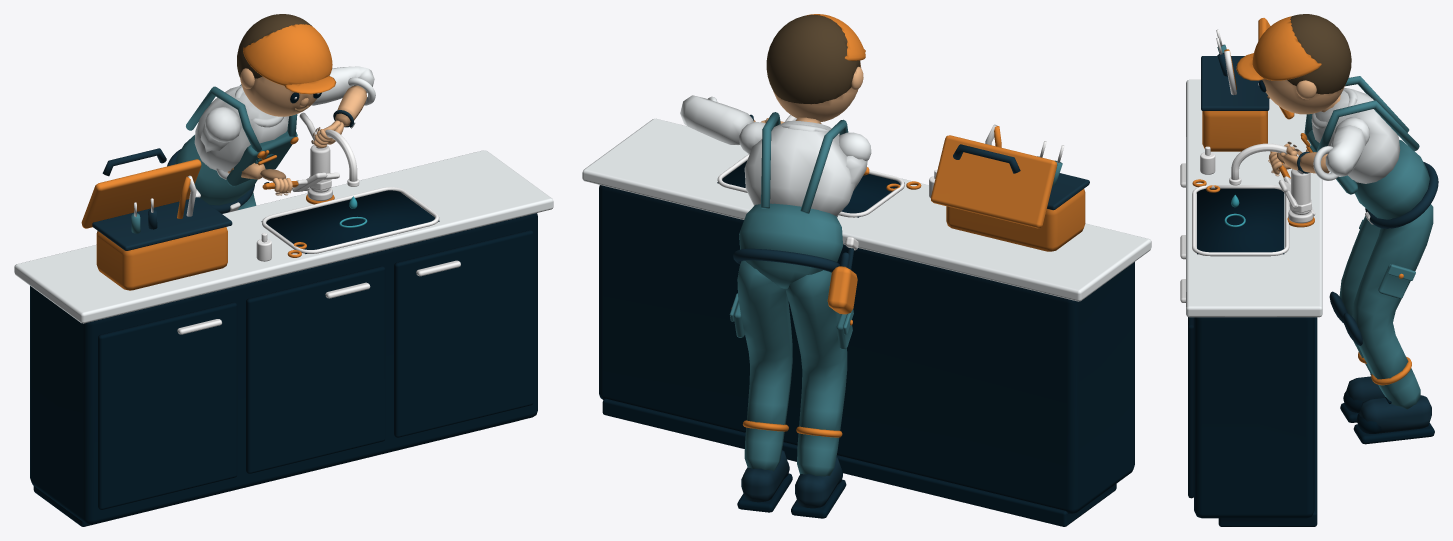
File: bild-1.glb
The picture shows the model from 3 angles, left to right: view 1: azimuth 30°, elevation 25°; view 2: azimuth 150°, elevation 25°; view 3: azimuth 270°, elevation 25°; orthographic projection. The views are drawn at different scales.
Parts seen in each view (by area): view 1: Sockel, Arbeitsplatte, Deckel, FachkraftArm1, Becken, Dreher1, FachkraftBauch, Auslauf, Fachkraft1Daumen, FachkraftSchnalle, FachkraftBraue1; view 2: Sockel, Arbeitsplatte, FachkraftBauch, Deckel, FachkraftArm1, FachkraftBraue1, Dreher1, Becken, Fachkraft1Daumen, Auslauf; view 3: Sockel, Arbeitsplatte, FachkraftBauch, Dreher1, Becken, Deckel, FachkraftArm1, Auslauf, FachkraftBraue1, Fachkraft1Daumen, FachkraftSchnalle.
Part boxes in pixels (box(x1,y1,x2,y2)): Sockel: box(30, 213, 537, 526); Arbeitsplatte: box(14, 150, 553, 323); Deckel: box(81, 24, 336, 290); FachkraftArm1: box(194, 66, 375, 179); Becken: box(261, 182, 439, 253); Dreher1: box(92, 110, 354, 250); FachkraftBauch: box(174, 84, 297, 213); Auslauf: box(134, 112, 439, 253); Fachkraft1Daumen: box(227, 68, 366, 193); FachkraftSchnalle: box(177, 202, 460, 334); FachkraftBraue1: box(237, 14, 311, 78); Sockel: box(599, 185, 1134, 526); Arbeitsplatte: box(582, 118, 1151, 301); FachkraftBauch: box(729, 112, 853, 476); Deckel: box(731, 14, 1085, 437); FachkraftArm1: box(680, 95, 871, 216); FachkraftBraue1: box(766, 14, 860, 104); Dreher1: box(733, 114, 1089, 508); Becken: box(717, 161, 904, 518); Fachkraft1Daumen: box(753, 63, 863, 123); Auslauf: box(717, 115, 1064, 217); Sockel: box(1188, 317, 1317, 526); Arbeitsplatte: box(1186, 79, 1322, 317); FachkraftBauch: box(1304, 76, 1433, 409); Dreher1: box(1201, 53, 1438, 433); Becken: box(1197, 188, 1434, 444); Deckel: box(1192, 16, 1411, 385); FachkraftArm1: box(1311, 88, 1400, 183); Auslauf: box(1192, 29, 1315, 256); FachkraftBraue1: box(1287, 14, 1351, 94); Fachkraft1Daumen: box(1261, 79, 1345, 174); FachkraftSchnalle: box(1180, 152, 1373, 302).
Size of the model in its own units: 1.98 by 1.68 by 0.9435.
